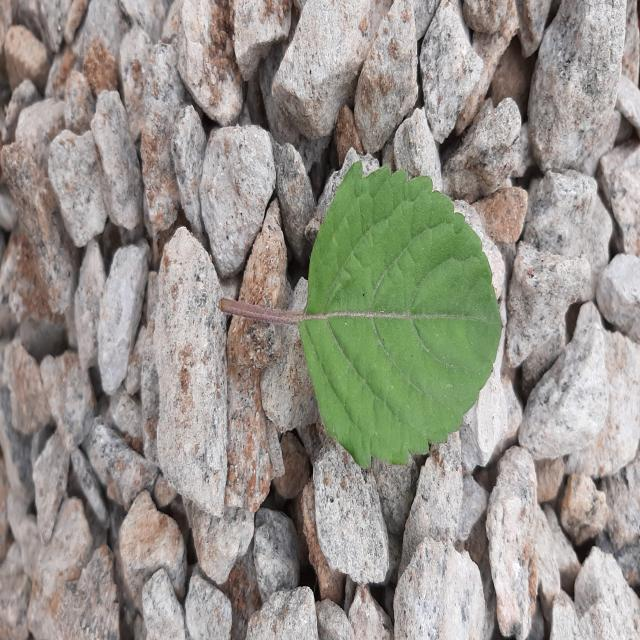tulsi: (300, 163, 501, 466)
